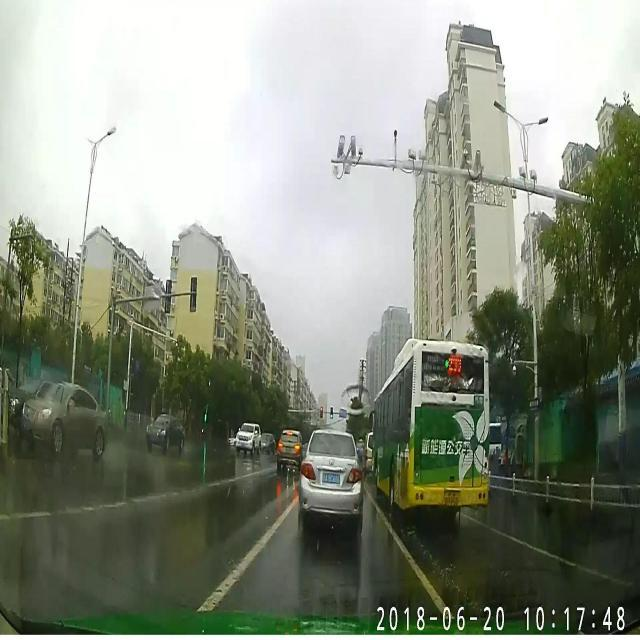car: (20, 379, 107, 460), (300, 428, 363, 534), (145, 416, 186, 454), (276, 429, 302, 474), (234, 422, 261, 456)
